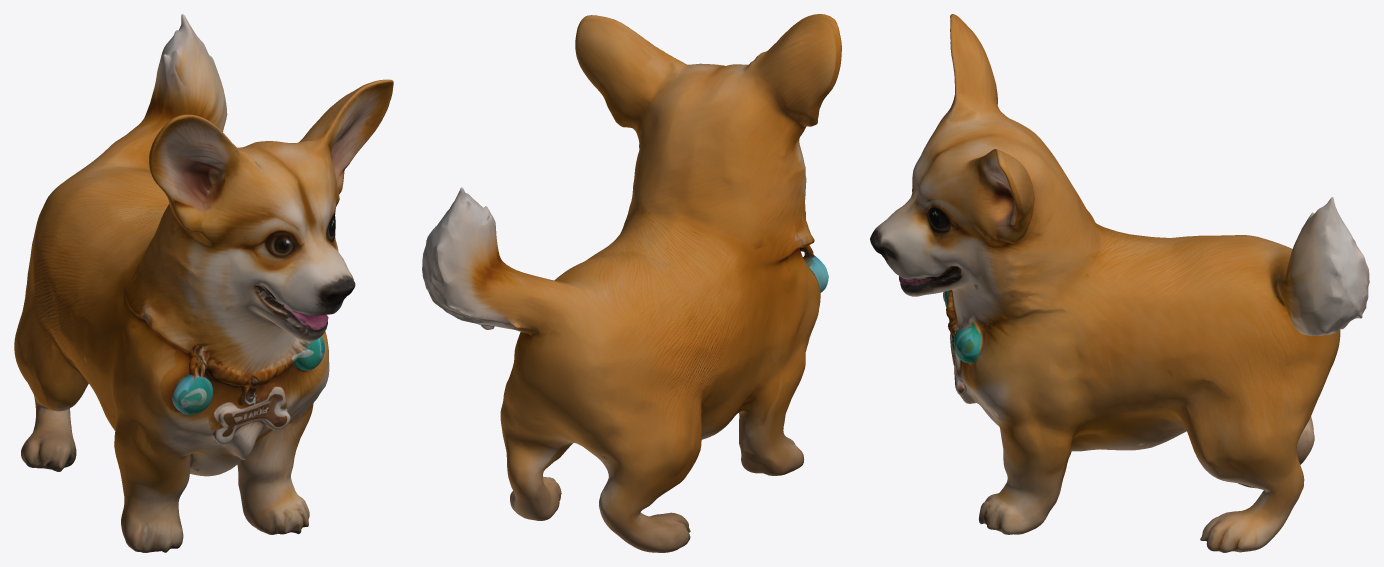
Rendered from romantex_74.glb.
3 renders of one model, left to right at view 1: azimuth 30°, elevation 25°; view 2: azimuth 150°, elevation 25°; view 3: azimuth 270°, elevation 25°, orthographic. The views are drawn at different scales.
Parts seen in each view (by area): view 1: texture_v130_hdr_21w_pbr_dino_11w.001; view 2: texture_v130_hdr_21w_pbr_dino_11w.001; view 3: texture_v130_hdr_21w_pbr_dino_11w.001.
Part boxes in pixels (x1=…): texture_v130_hdr_21w_pbr_dino_11w.001: x1=14, y1=14, x2=393, y2=552; texture_v130_hdr_21w_pbr_dino_11w.001: x1=422, y1=14, x2=841, y2=552; texture_v130_hdr_21w_pbr_dino_11w.001: x1=870, y1=14, x2=1369, y2=552.
Size of the model in its own units: 1.18 by 2 by 2.
1 material, 1 textured.
